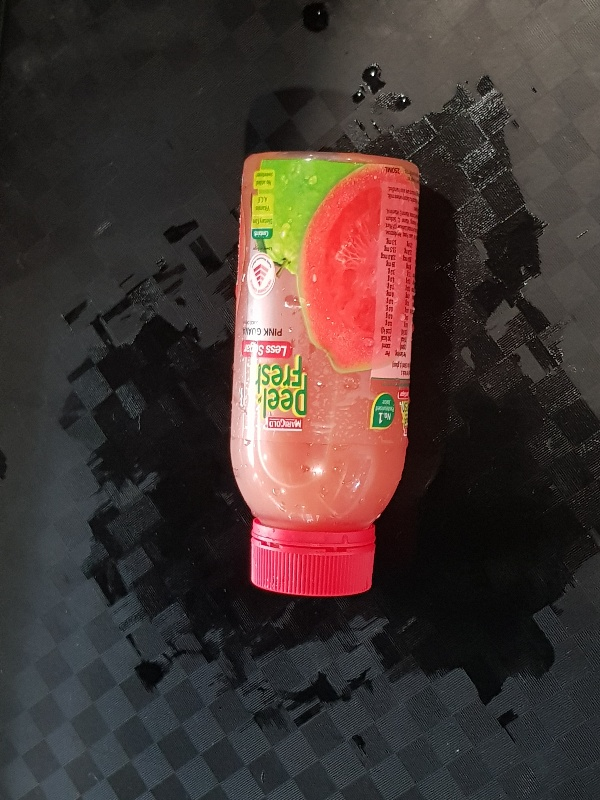Marigold Peel Fresh Pink Guava Juice Drink: (225, 149, 420, 601)
